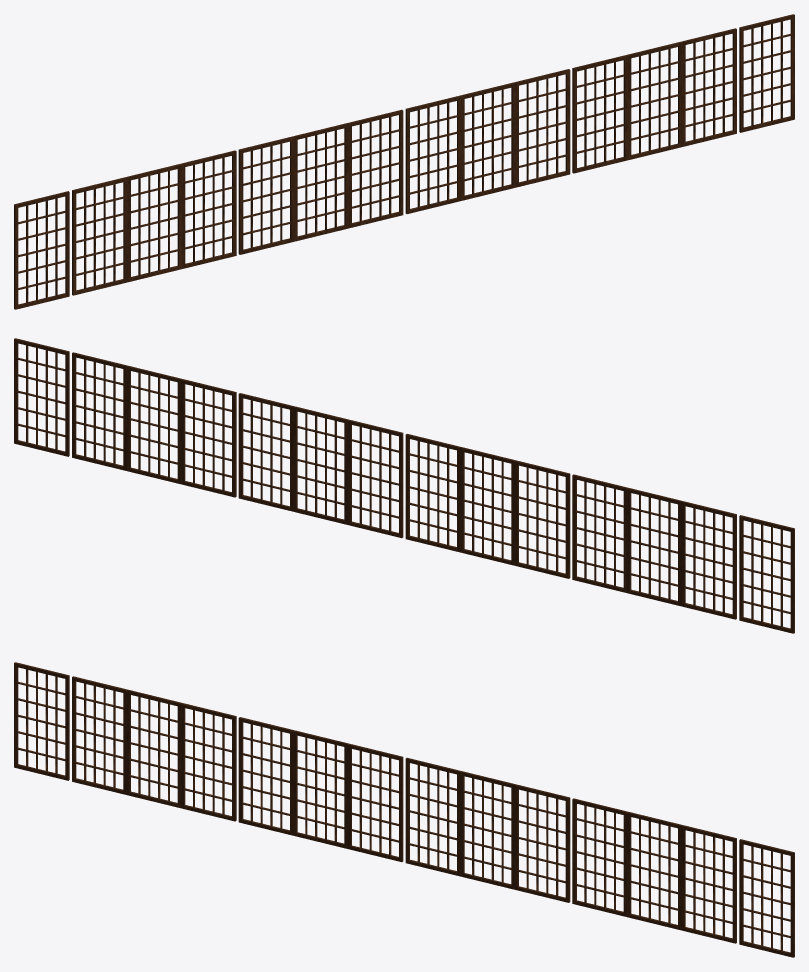
The model's file is MSH_C_Wall_South_panels_A.glb.
3 renders of one model, top to bottom at view 1: azimuth 30°, elevation 25°; view 2: azimuth 150°, elevation 25°; view 3: azimuth 330°, elevation 25°, orthographic.
Visible parts, largest first — view 1: MSH_C_Wall_South_panels_A; view 2: MSH_C_Wall_South_panels_A; view 3: MSH_C_Wall_South_panels_A.
Boxes of the visible parts, left/top/right/bottom form: MSH_C_Wall_South_panels_A: left=14, top=14, right=794, bottom=309; MSH_C_Wall_South_panels_A: left=14, top=338, right=794, bottom=633; MSH_C_Wall_South_panels_A: left=14, top=662, right=794, bottom=957.
Size of the model in its own units: 17.17 by 2.2 by 0.05.
Materials: 1 (1 with a texture image).
